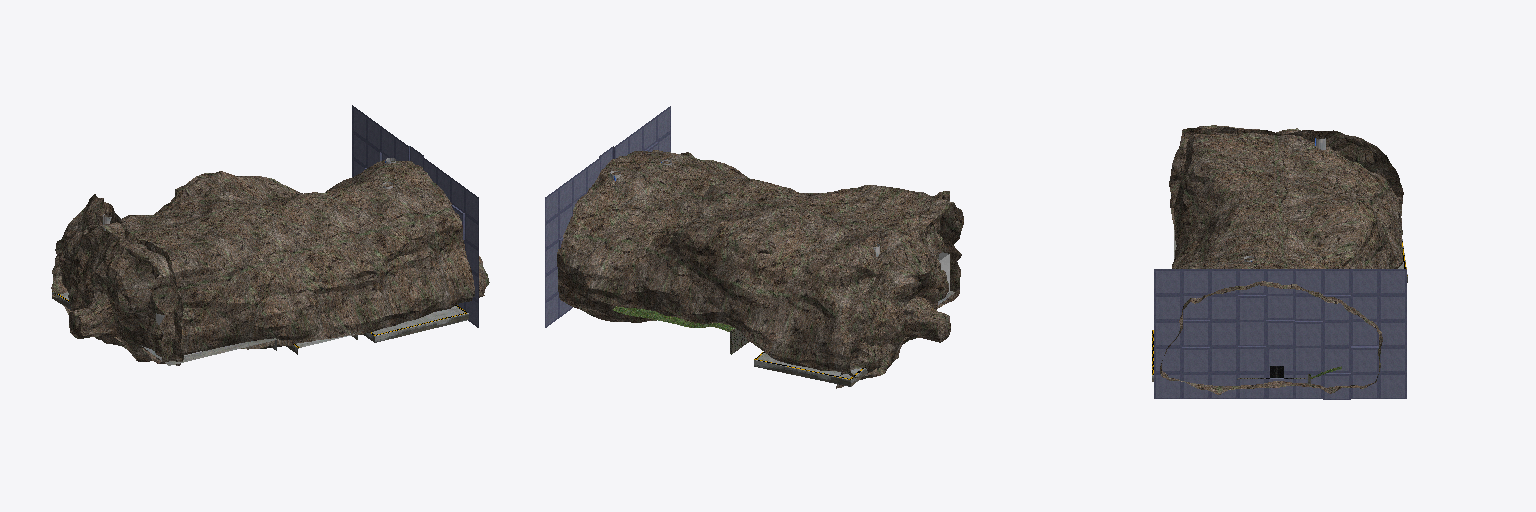
3 renders of one model, left to right at view 1: azimuth 30°, elevation 25°; view 2: azimuth 150°, elevation 25°; view 3: azimuth 270°, elevation 25°, orthographic.
Parts seen in each view (by area): view 1: Cave01, Cave02, HeadWall01, Base04, Base3; view 2: Cave01, Cave02, HeadWall01, Base2, Grass1; view 3: HeadWall01, Cave01, Cave02.
Part boxes in pixels (left/top/right/bottom): Cave01: left=51, top=160, right=489, bottom=363; Cave02: left=59, top=194, right=183, bottom=365; HeadWall01: left=352, top=105, right=478, bottom=327; Base04: left=363, top=305, right=468, bottom=342; Base3: left=142, top=338, right=276, bottom=365; Cave01: left=557, top=150, right=963, bottom=378; Cave02: left=827, top=191, right=950, bottom=388; HeadWall01: left=545, top=106, right=670, bottom=327; Base2: left=754, top=352, right=867, bottom=386; Grass1: left=613, top=306, right=734, bottom=331; HeadWall01: left=1154, top=269, right=1406, bottom=399; Cave01: left=1160, top=125, right=1402, bottom=394; Cave02: left=1169, top=127, right=1403, bottom=229.
Bounding box in the file's own units: 10 × 3.44 × 6.1.
43 materials, 29 textured.